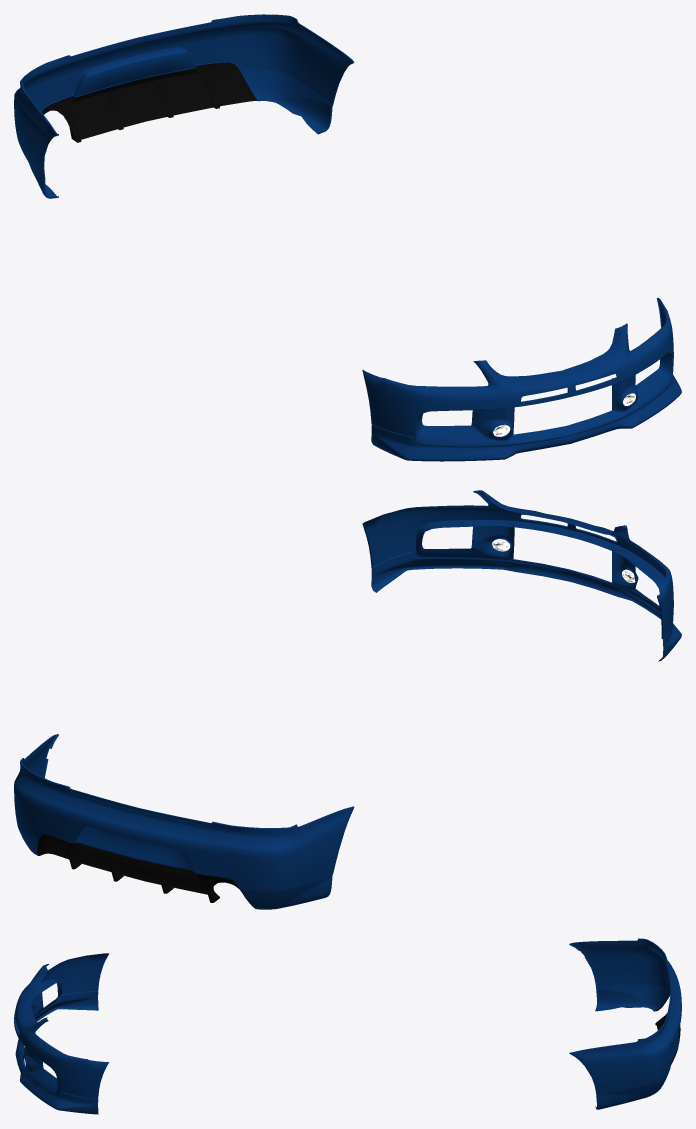
The model's file is evo9.fbx.
3 renders of one model, top to bottom at view 1: azimuth 30°, elevation 25°; view 2: azimuth 150°, elevation 25°; view 3: azimuth 270°, elevation 25°, orthographic. The views are drawn at different scales.
Visible parts, largest first — view 1: Rear Bumper Evo 9 Stock, Front Bumper Evo 9; view 2: Rear Bumper Evo 9 Stock, Front Bumper Evo 9; view 3: Rear Bumper Evo 9 Stock, Front Bumper Evo 9.
Boxes of the visible parts, left/top/right/bottom form: Rear Bumper Evo 9 Stock: left=14, top=14, right=354, bottom=198; Front Bumper Evo 9: left=362, top=298, right=681, bottom=461; Rear Bumper Evo 9 Stock: left=14, top=734, right=354, bottom=909; Front Bumper Evo 9: left=362, top=490, right=681, bottom=661; Rear Bumper Evo 9 Stock: left=569, top=938, right=681, bottom=1109; Front Bumper Evo 9: left=14, top=953, right=108, bottom=1114.
Bounding box in the file's own units: 1.74 × 0.5482 × 4.46.
Materials: 4 (1 with a texture image).
